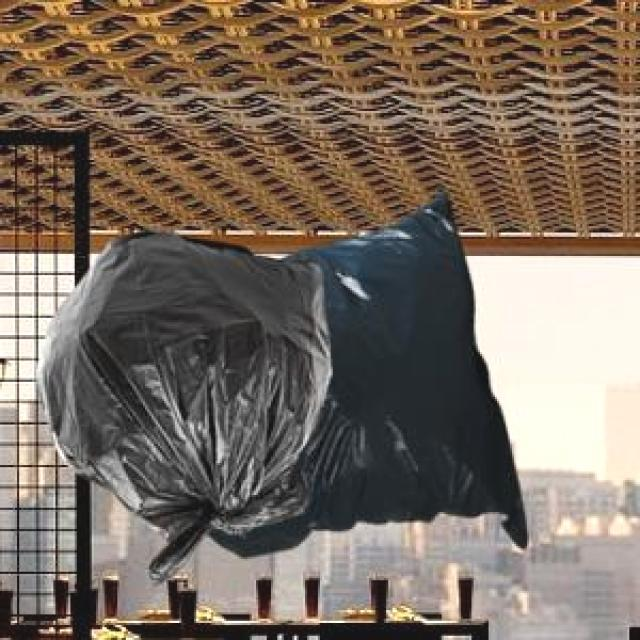Trashbag: (32, 229, 330, 543)
